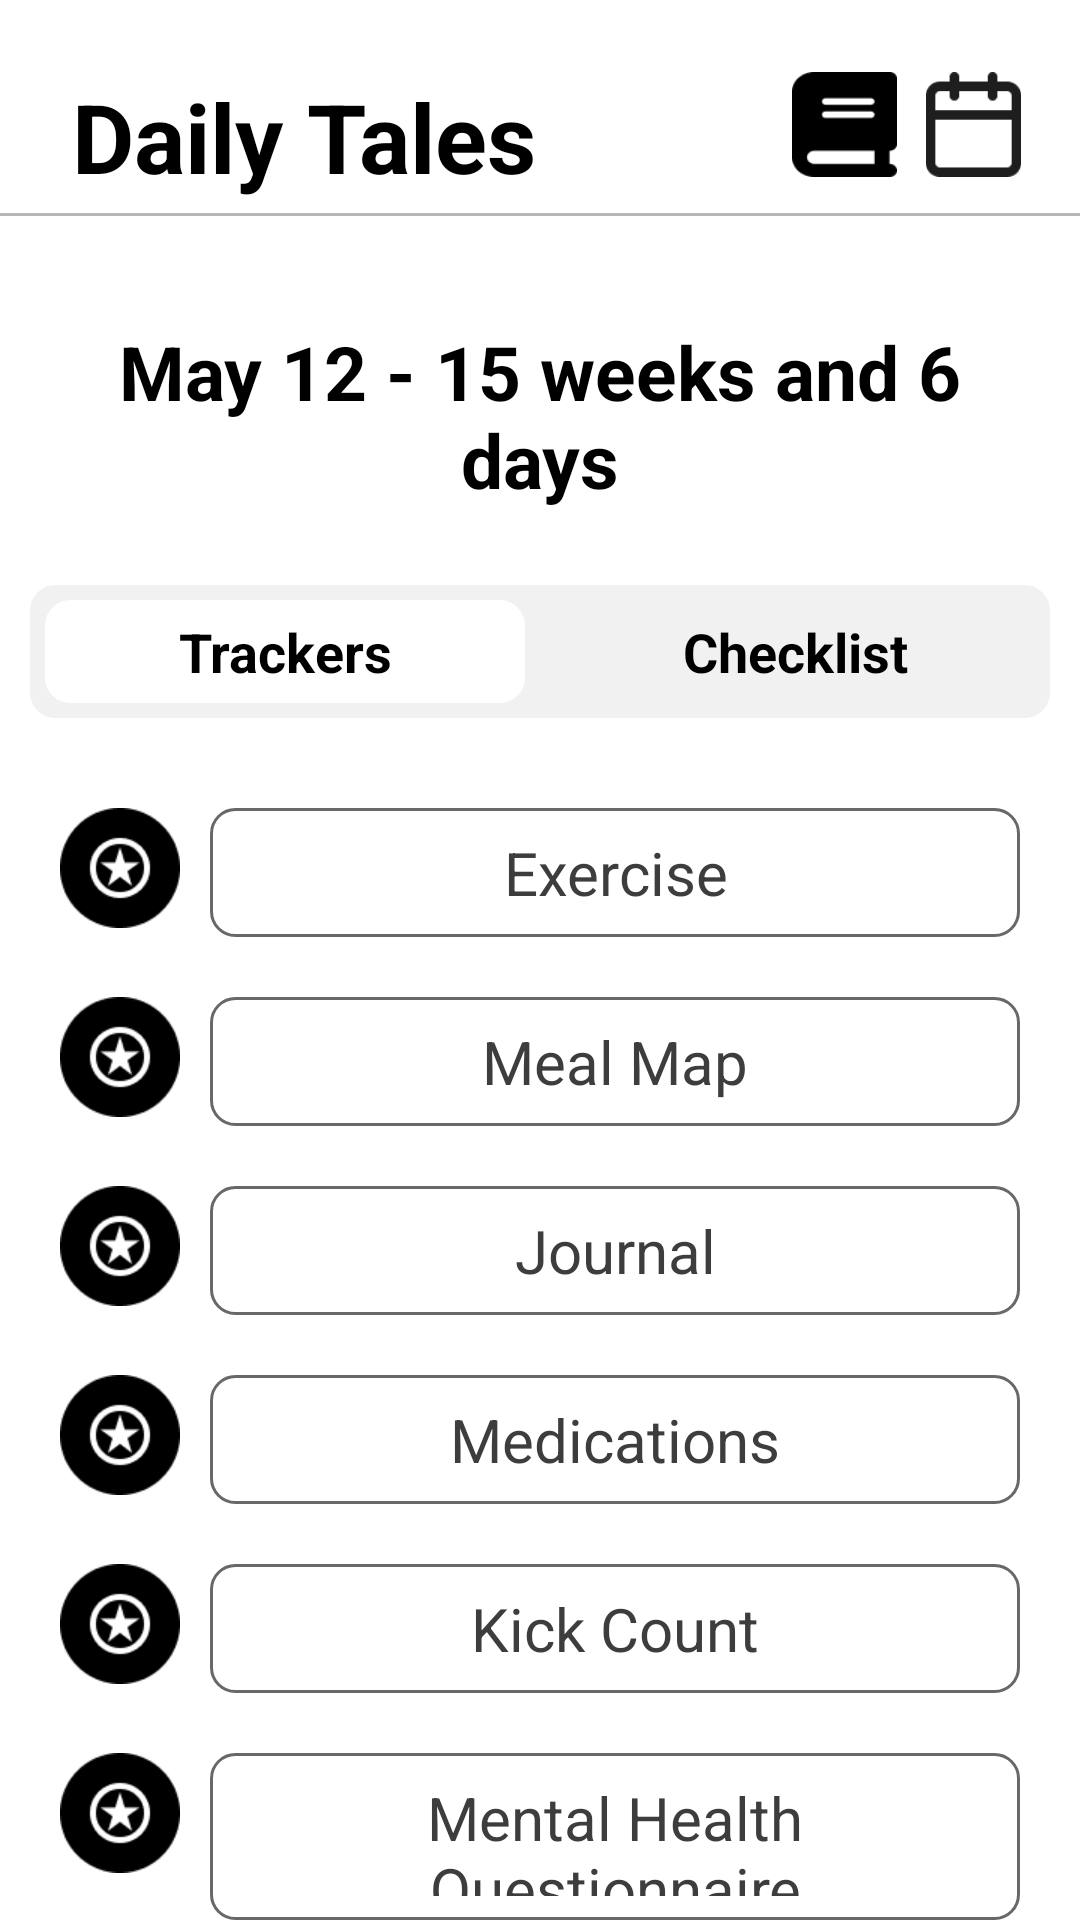

Point at icon controls on the screen. Image size 1080x1920, points as point (x, y).
date: point (973, 124)
notes: point (844, 124)
star: point (120, 868), point (120, 1057), point (120, 1246), point (120, 1435), point (120, 1624), point (120, 1813)
